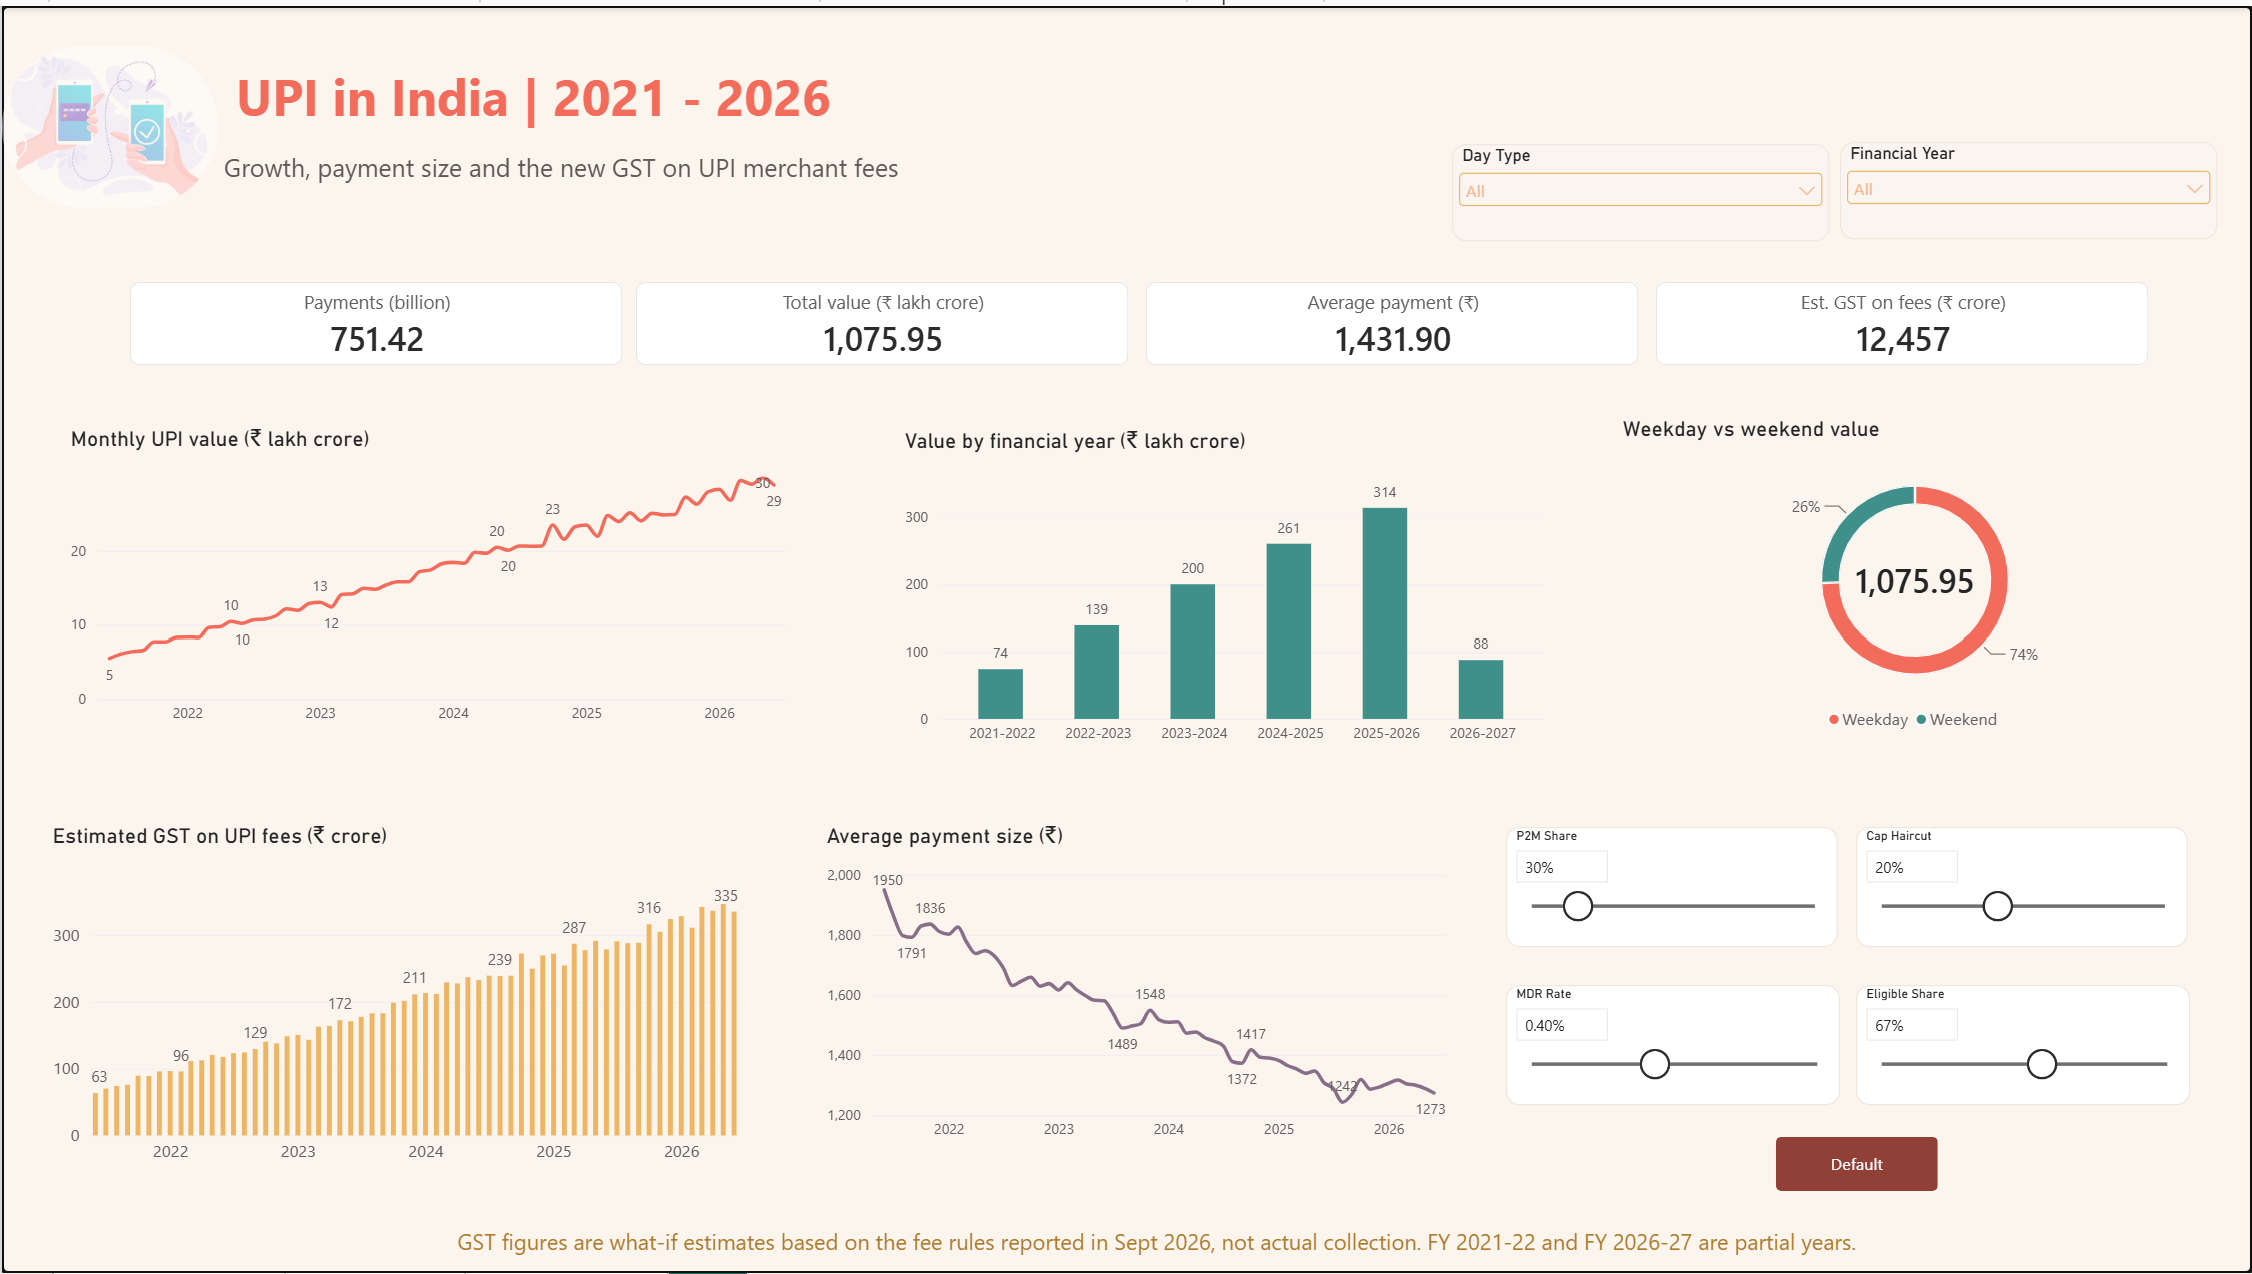

Layout of this report page (visuals, bound fields, positions):
{"tool":"powerbi","page":{"name":"Dashboard","canvas":[1920,1080],"ordinal":0},"visuals":[{"type":"cardVisual","fields":{"Data":["_Measures.Volume (Bn)"]},"box":[108.7,236.2,420,71.7],"z":0},{"type":"cardVisual","fields":{"Data":["_Measures.Est. GST on MDR (Cr)"]},"box":[1410.3,236.2,420,71.7],"z":1000},{"type":"cardVisual","fields":{"Data":["_Measures.Avg Ticket (₹)"]},"box":[975.3,236.2,420,71.7],"z":2000},{"type":"cardVisual","fields":{"Data":["_Measures.Value (₹ Lakh Cr)"]},"box":[540.3,236.2,420,71.7],"z":3000},{"type":"lineChart","title":"Monthly UPI value (₹ lakh crore)","fields":{"Category":["Calendar.Month Start"],"Y":["_Measures.Value (₹ Lakh Cr)"]},"box":[42.7,342.9,644.9,288.3],"z":4000},{"type":"columnChart","title":"Value by financial year (₹ lakh crore)","fields":{"Category":["Calendar.Financial Year"],"Y":["_Measures.Value (₹ Lakh Cr)"]},"box":[754.1,344.6,578.4,303.7],"z":5000},{"type":"donutChart","title":"Weekday vs weekend value","fields":{"Category":["UPI.Day_Type"],"Y":["_Measures.Value (₹ Lakh Cr)"]},"box":[1366.6,336.1,530.6,302],"z":6000},{"type":"lineChart","title":"\tAverage payment size (₹)","fields":{"Category":["Calendar.Month Start"],"Y":["_Measures.Avg Ticket (₹)"]},"box":[687.6,680.8,563,305.4],"z":7000},{"type":"columnChart","title":"Estimated GST on UPI fees (₹ crore)","fields":{"Category":["Calendar.Month Start"],"Y":["_Measures.Est. GST on MDR (Cr)"]},"box":[27.3,680.8,629.6,325.9],"z":8000},{"type":"textbox","box":[189.4,47.8,854.8,136.5],"z":9000},{"type":"slicer","fields":{"Values":["P2M Share.P2M Share"]},"box":[1283,699.5,283.2,102.4],"z":10000},{"type":"slicer","fields":{"Values":["Eligible Share.Eligible Share"]},"box":[1581.6,834.3,284.9,102.4],"z":11000},{"type":"slicer","fields":{"Values":["MDR Rate.MDR Rate"]},"box":[1283,834.3,284.9,102.4],"z":12000},{"type":"slicer","fields":{"Values":["Cap Haircut.Cap Haircut"]},"box":[1581.6,699.5,283.2,102.4],"z":13000},{"type":"slicer","fields":{"Values":["UPI.Day_Type"]},"box":[1237.8,117.7,321.8,83],"z":14000},{"type":"textbox","box":[370.2,1040.8,1211.4,39.2],"z":15000},{"type":"slicer","fields":{"Values":["Calendar.Financial Year"]},"box":[1568.8,116,321.8,83.2],"z":16000},{"type":"image","box":[0,34.1,184.3,138.2],"z":17000},{"type":"bookmarkNavigator","box":[1513.4,964,138.2,46.1],"z":18000}]}

Visuals, with their boxes in screenshot pixels (x1, y1, x2, y2), scaled from the page's 1920x1080 canvas onto the 2252x1274 screenshot:
cardVisual - _Measures.Volume (Bn): 127,279,620,363
cardVisual - _Measures.Est. GST on MDR (Cr): 1654,279,2147,363
cardVisual - _Measures.Avg Ticket (₹): 1144,279,1637,363
cardVisual - _Measures.Value (₹ Lakh Cr): 634,279,1126,363
"Monthly UPI value (₹ lakh crore)" lineChart: 50,404,806,745
"Value by financial year (₹ lakh crore)" columnChart: 884,407,1563,765
"Weekday vs weekend value" donutChart: 1603,396,2225,753
"	Average payment size (₹)" lineChart: 806,803,1467,1163
"Estimated GST on UPI fees (₹ crore)" columnChart: 32,803,770,1188
textbox: 222,56,1225,217
slicer - P2M Share.P2M Share: 1505,825,1837,946
slicer - Eligible Share.Eligible Share: 1855,984,2189,1105
slicer - MDR Rate.MDR Rate: 1505,984,1839,1105
slicer - Cap Haircut.Cap Haircut: 1855,825,2187,946
slicer - UPI.Day_Type: 1452,139,1829,237
textbox: 434,1228,1855,1273
slicer - Calendar.Financial Year: 1840,137,2218,235
image: 0,40,216,203
bookmarkNavigator: 1775,1137,1937,1192
